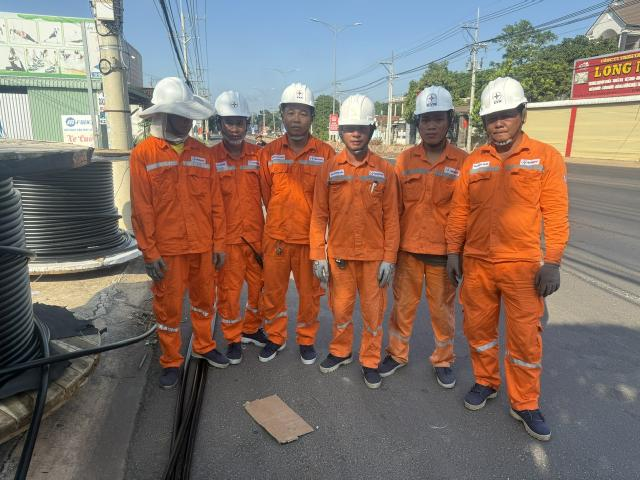gloves: (529, 255, 571, 303), (371, 246, 409, 285), (439, 257, 475, 296), (140, 253, 175, 288), (302, 253, 335, 280), (208, 242, 238, 268)
helmet: (139, 73, 211, 121), (204, 79, 262, 128), (476, 75, 527, 118), (339, 87, 381, 135), (404, 79, 452, 121), (273, 84, 322, 112)
shoes: (504, 397, 557, 443), (459, 369, 498, 420), (251, 328, 295, 367), (308, 343, 357, 378), (372, 343, 412, 384), (425, 357, 462, 399), (350, 350, 386, 389), (286, 335, 322, 372), (236, 319, 272, 355), (188, 338, 225, 372), (152, 360, 188, 381), (220, 333, 241, 367)
